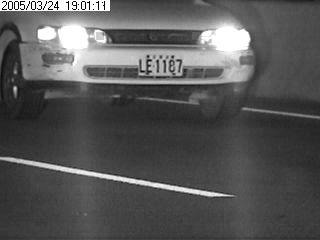plate: (136, 53, 185, 78)
